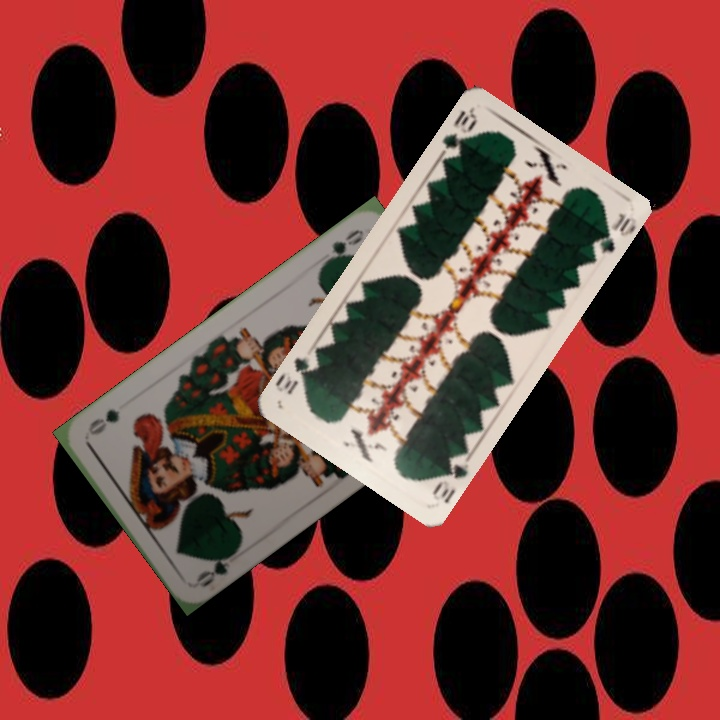G10: (428, 450, 472, 506), (436, 106, 480, 162)
GO: (192, 543, 242, 590), (320, 225, 367, 268)
